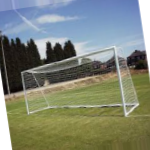goals: (20, 45, 141, 117)
